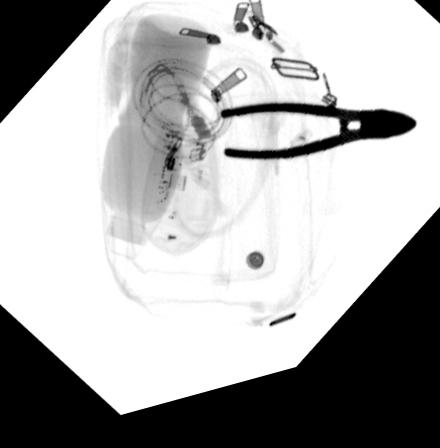Pliers: (218, 116, 417, 175)
